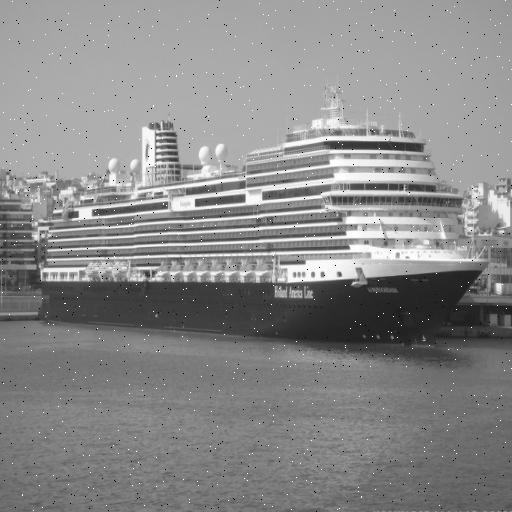cruises: (36, 84, 492, 361)
